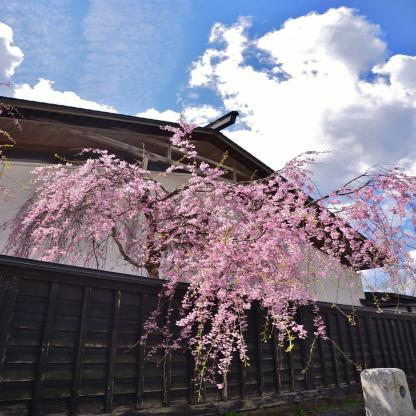ShidareZakura: (0, 112, 416, 404)
